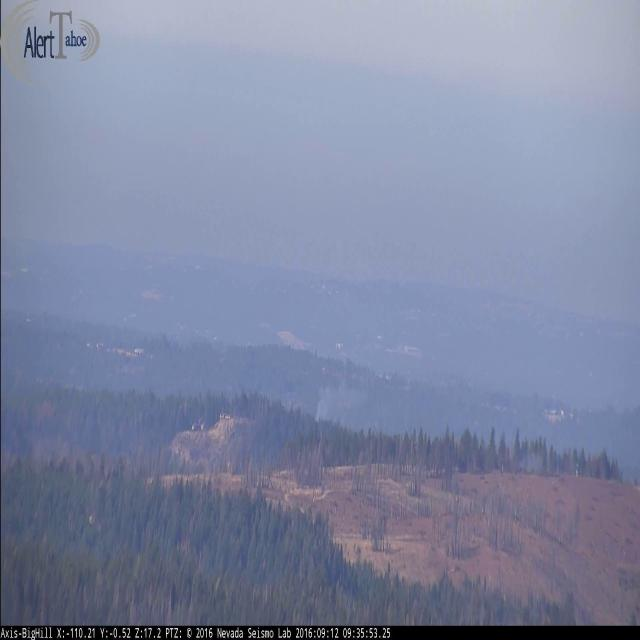smoke: (314, 374, 387, 428)
